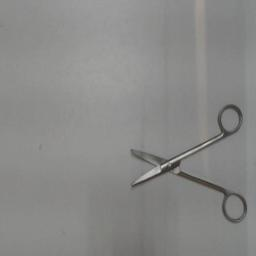Curved Mayo Scissors: (128, 100, 250, 230)
